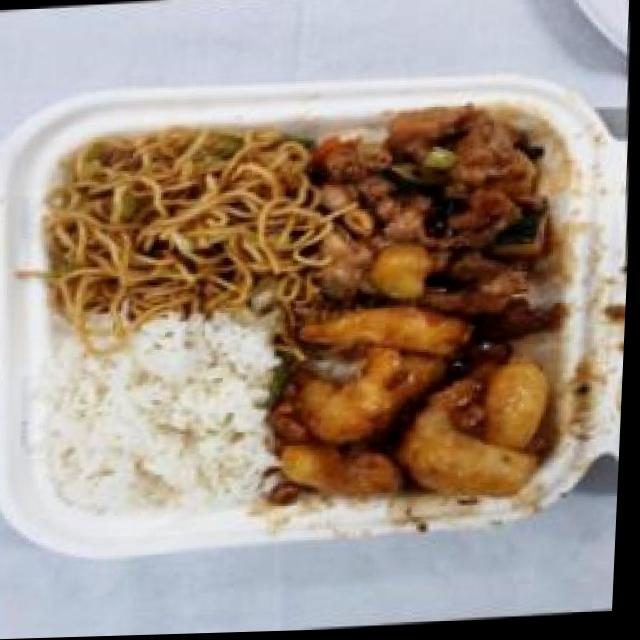Chow Mein: (41, 120, 329, 332)
Kung Pao Chicken: (277, 294, 569, 518), (310, 105, 576, 336)
White Steamed Rice: (40, 316, 287, 522)
